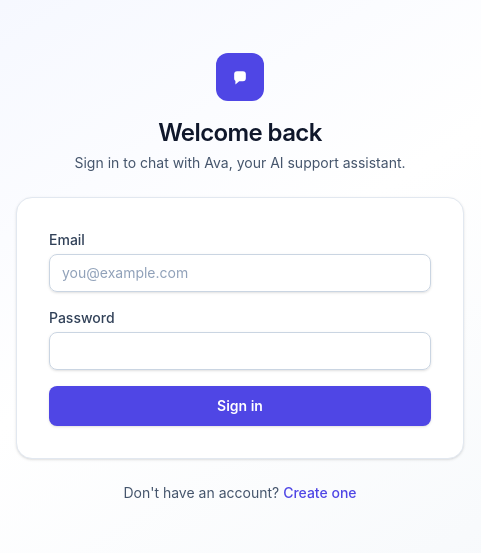
Test case: Login page › shows a network error message
Type "ada@example.com" into the field labelled "Email" at (240, 273), box left=49, top=254, right=431, bottom=292
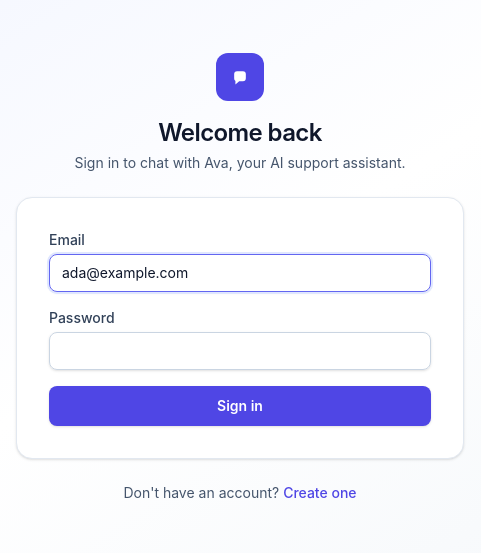
Type "Password1" into the password field labelled "Password" at (240, 351), box left=49, top=332, right=431, bottom=370
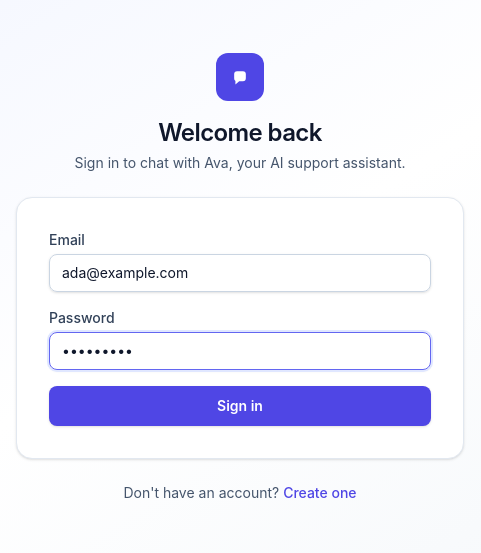
Click the button "Sign in" at (240, 406), box left=49, top=386, right=431, bottom=426
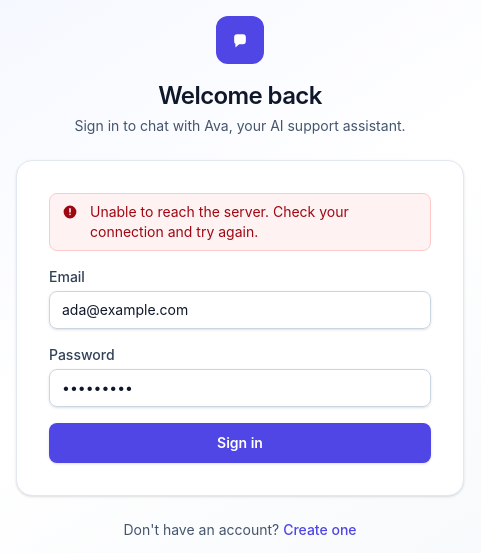
Check: the message shows "Unable to reach the server", box left=90, top=203, right=349, bottom=240
